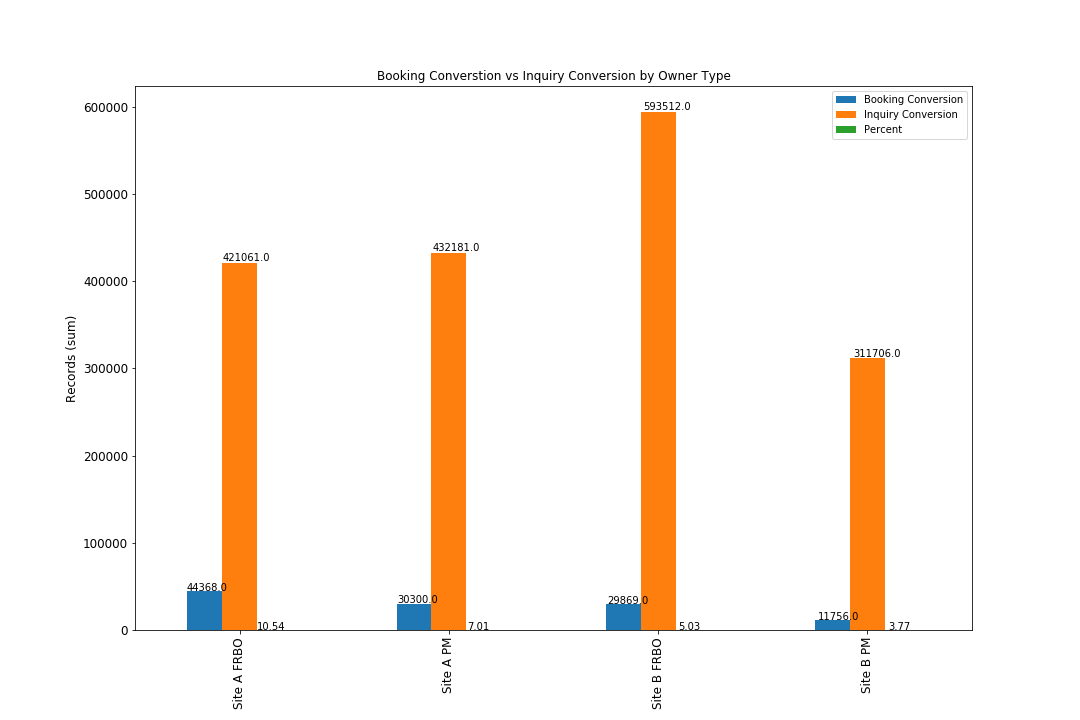

What the dashboard file says about the page in this screenshot:
{"tool":"tableau","page":{"name":"BarChart","canvas":[1000,800],"ordinal":1},"visuals":[{"type":"filter","title":"All-Viz-1","param":"[federated.0fqd9971pobdc41fchzsx0ctk5mb].[none:Site:nk]","box":[8,8,143,75]},{"type":"filter","title":"All-Viz-1","param":"[federated.0fqd9971pobdc41fchzsx0ctk5mb].[none:Year of Date Id:nk]","box":[151,8,182,75]},{"type":"filter","title":"All-Viz-1","param":"[federated.0fqd9971pobdc41fchzsx0ctk5mb].[none:Measure Names:nk]","box":[333,8,353,75]},{"type":"filter","title":"All-Viz-1","param":"[federated.0fqd9971pobdc41fchzsx0ctk5mb].[none:Supplier Type:nk]","box":[686,8,146,75]},{"type":"filter","title":"All-Viz-1","param":"[federated.0fqd9971pobdc41fchzsx0ctk5mb].[none:Person Type:nk]","box":[832,8,160,75]},{"type":"worksheet","title":"All-Viz-1","mark":"Automatic","rows":["Measure Names","Person Type","Site","Supplier Type"],"cols":["Measure Values"],"box":[8,83,984,709]}]}

Visuals, with their boxes on the page's 1000x800 design canvas (x1, y1, x2, y2). These are canvas units, not pixel positions in the 1080x720 screenshot, which may show the page scaled, cropped or inside an application window:
"All-Viz-1" filter: 8, 8, 151, 83
"All-Viz-1" filter: 151, 8, 333, 83
"All-Viz-1" filter: 333, 8, 686, 83
"All-Viz-1" filter: 686, 8, 832, 83
"All-Viz-1" filter: 832, 8, 992, 83
"All-Viz-1" worksheet: 8, 83, 992, 792
